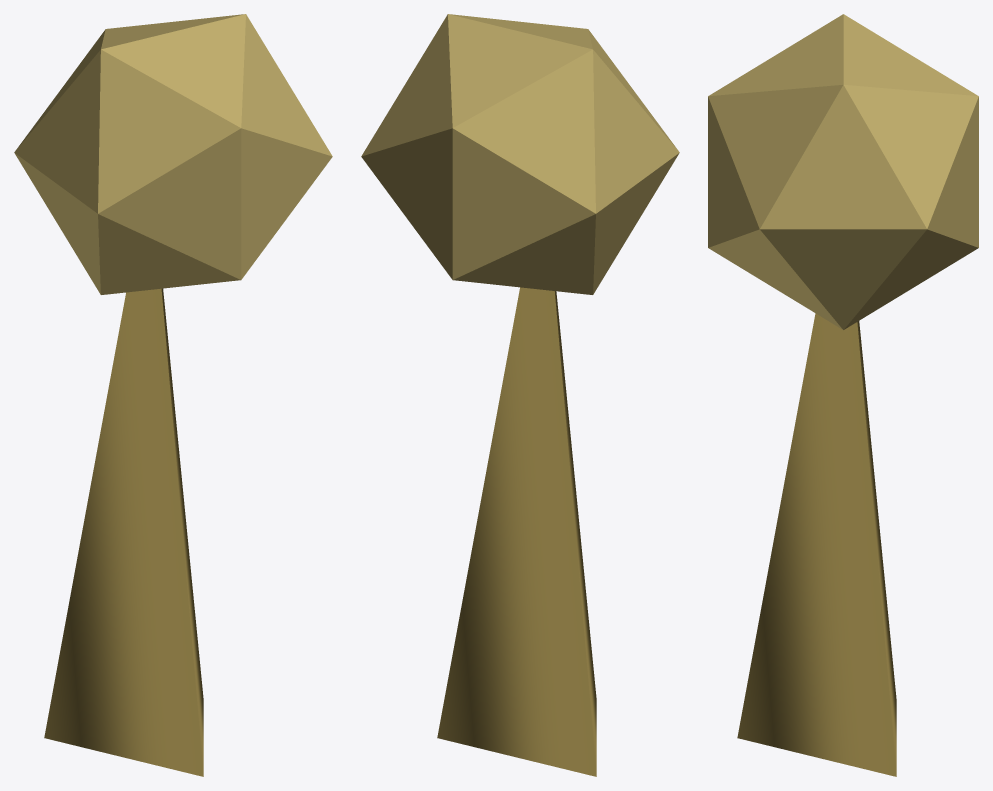
The picture shows the model from 3 angles, left to right: view 1: azimuth 30°, elevation 25°; view 2: azimuth 150°, elevation 25°; view 3: azimuth 270°, elevation 25°; orthographic projection.
Parts seen in each view (by area): view 1: alpine-body; view 2: alpine-body; view 3: alpine-body.
Part boxes in pixels (bbox=[...]): alpine-body: bbox=[14, 14, 332, 776]; alpine-body: bbox=[361, 14, 679, 776]; alpine-body: bbox=[708, 14, 978, 776].
Size of the model in its own units: 0.2042 by 0.5821 by 0.2042.
